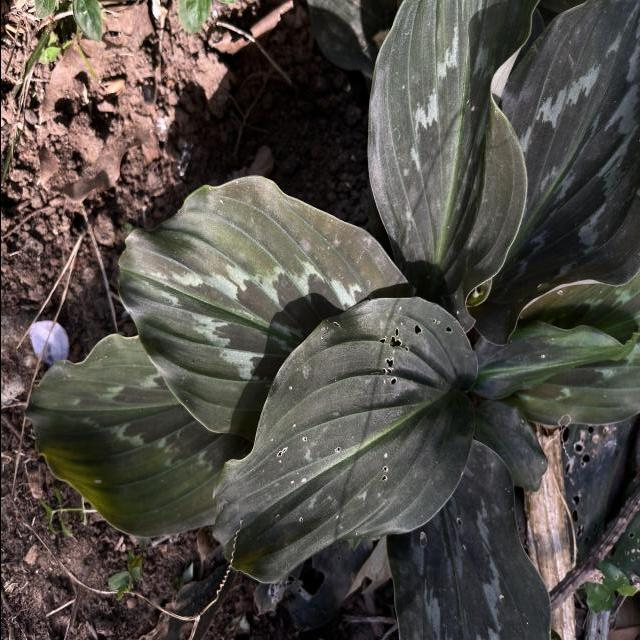Kaempferia galanga linn: (114, 171, 415, 446), (208, 294, 481, 587), (364, 0, 544, 336), (469, 0, 640, 348), (22, 331, 215, 540), (382, 435, 552, 640), (466, 316, 640, 402)
